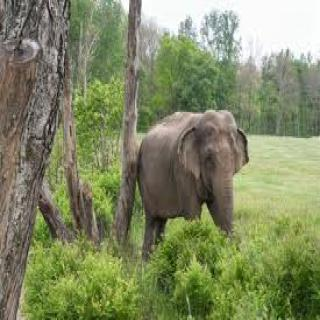Elephant: (135, 108, 252, 266)
